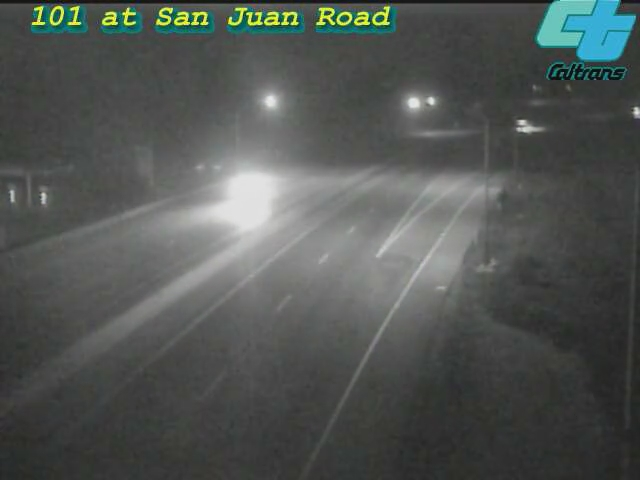vehicle: (206, 151, 286, 231), (510, 100, 560, 150)
